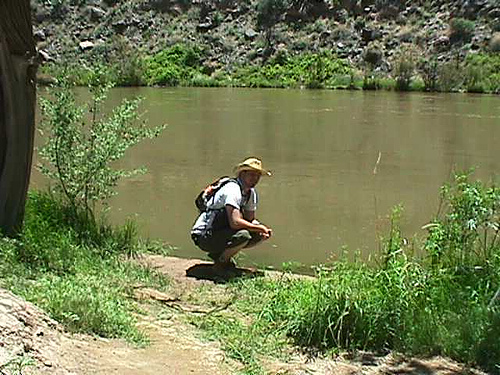without_mask: (238, 165, 262, 190)
